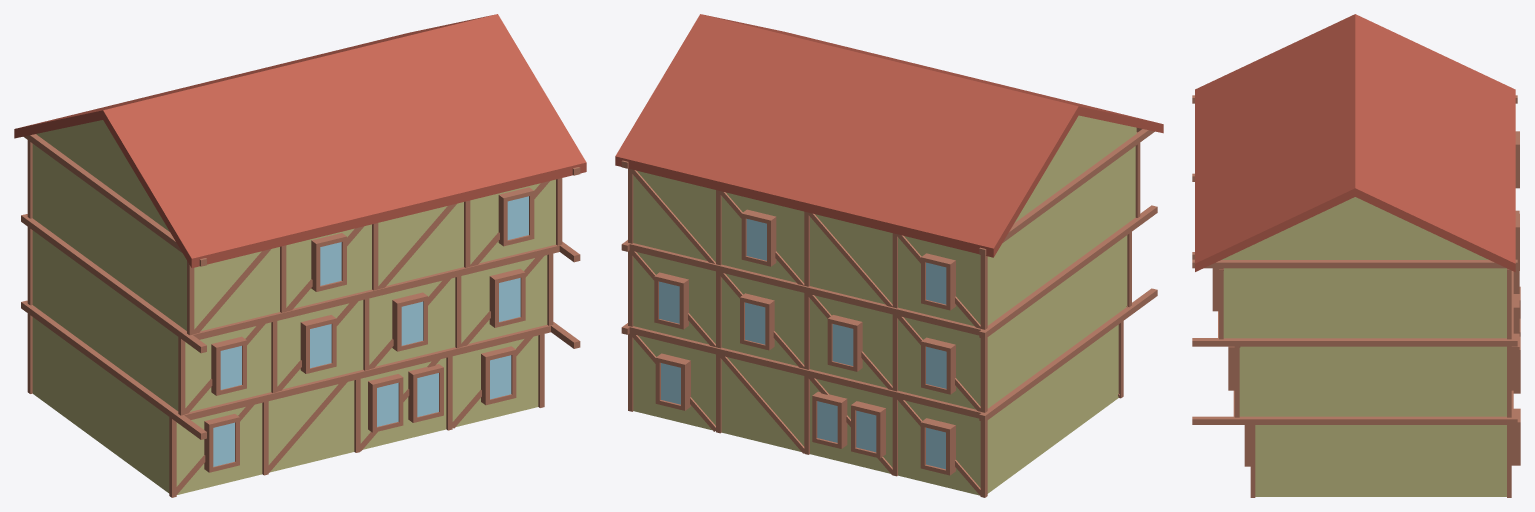
Rendered from House.fbx.
3 views of the same model, side by side, from view 1: azimuth 30°, elevation 25°; view 2: azimuth 150°, elevation 25°; view 3: azimuth 270°, elevation 25° (orthographic). The views are drawn at different scales.
Visible parts, largest first — view 1: mainHouse, roof, Timber.002, Pane.002; view 2: mainHouse, roof, Timber.002, Pane.002, Pane.001; view 3: mainHouse, roof, Timber.002.
Part boxes in pixels (x1,y1,x2,y2): mainHouse: (32, 120, 555, 494); roof: (14, 14, 586, 268); Timber.002: (21, 134, 580, 497); Pane.002: (213, 196, 528, 466); mainHouse: (633, 115, 1136, 495); roof: (615, 14, 1163, 257); Timber.002: (621, 128, 1157, 497); Pane.002: (659, 262, 946, 469); Pane.001: (746, 219, 766, 260); mainHouse: (1222, 197, 1506, 496); roof: (1195, 14, 1515, 272); Timber.002: (1192, 95, 1520, 497).
Bounding box in the file's own units: 1287 × 1085 × 1025.
